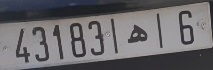1: (50, 24, 66, 61)
3: (31, 26, 50, 63), (88, 21, 105, 57)
4: (14, 28, 32, 64)
6: (177, 9, 196, 46)
8: (68, 22, 87, 59)
h: (125, 22, 151, 45)
